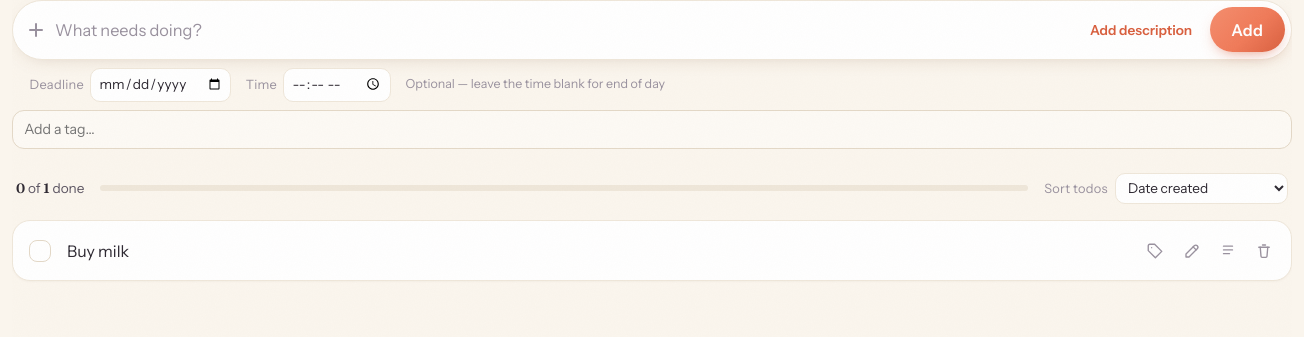
Test case: TodoApp edit › saves the trimmed title on Enter
Click the button named "Edit \"Buy milk\"" at (1192, 251), box [1175, 234, 1209, 268]
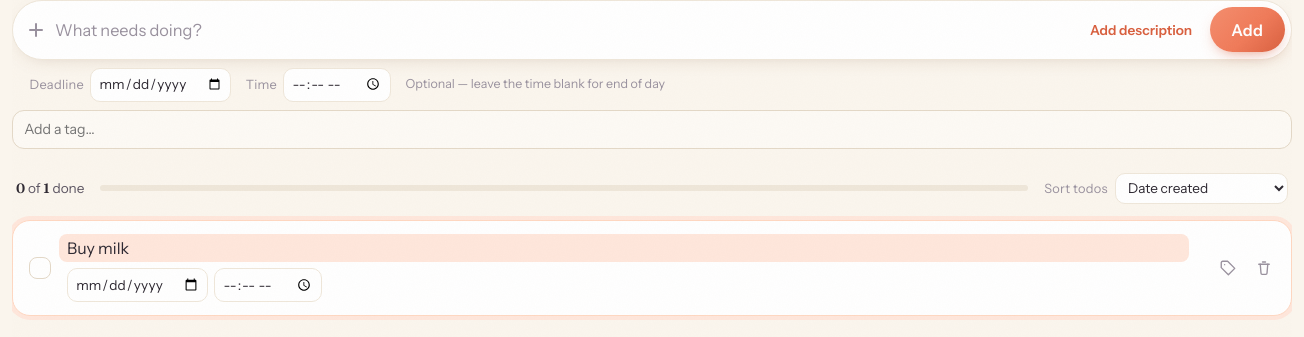
Replace the text in the field named "Edit todo title" with "  Buy oat milk " at (624, 248), box [59, 234, 1189, 262]
Then press Enter
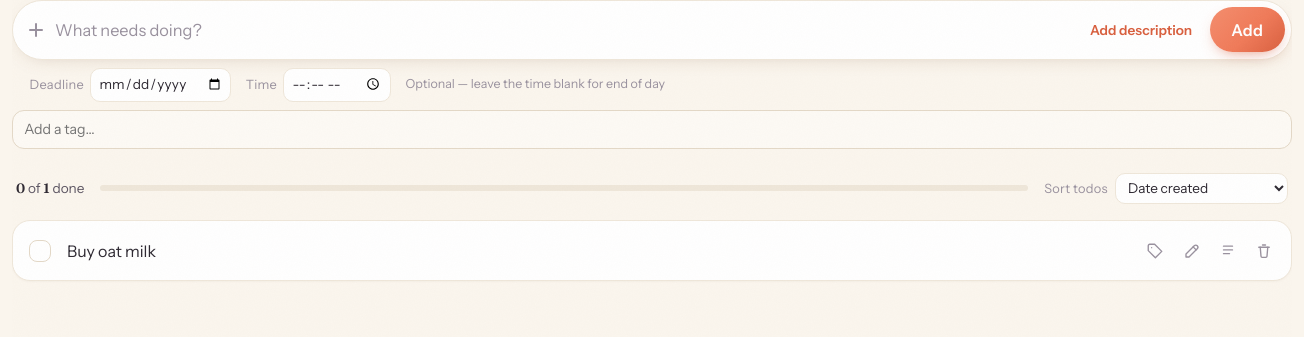
expect the text "Buy oat milk" is shown: met, box [67, 239, 156, 263]
